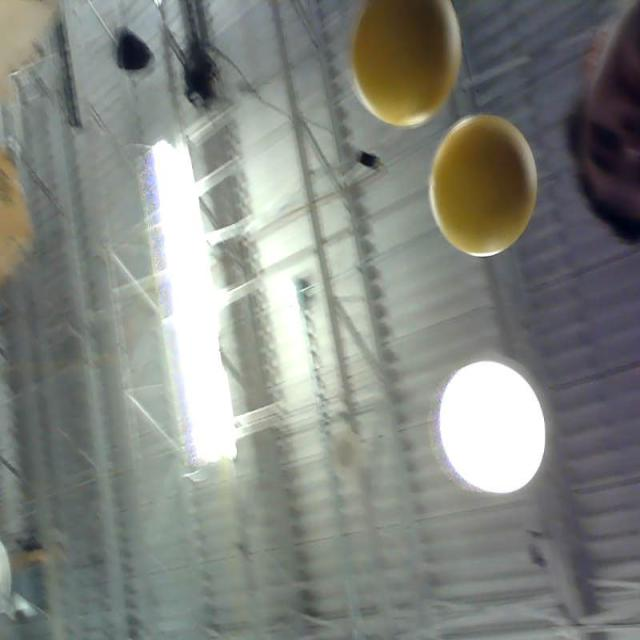Fuel: (430, 114, 538, 257), (352, 0, 462, 125)
